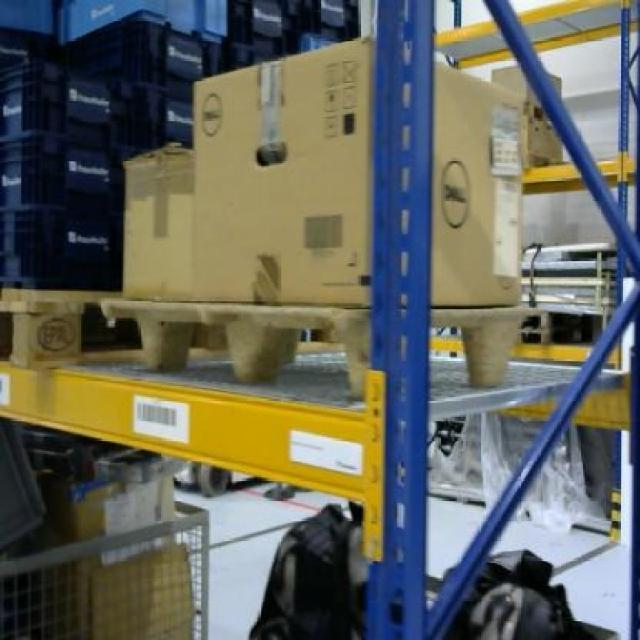box: (195, 35, 523, 303), (116, 142, 196, 296)
